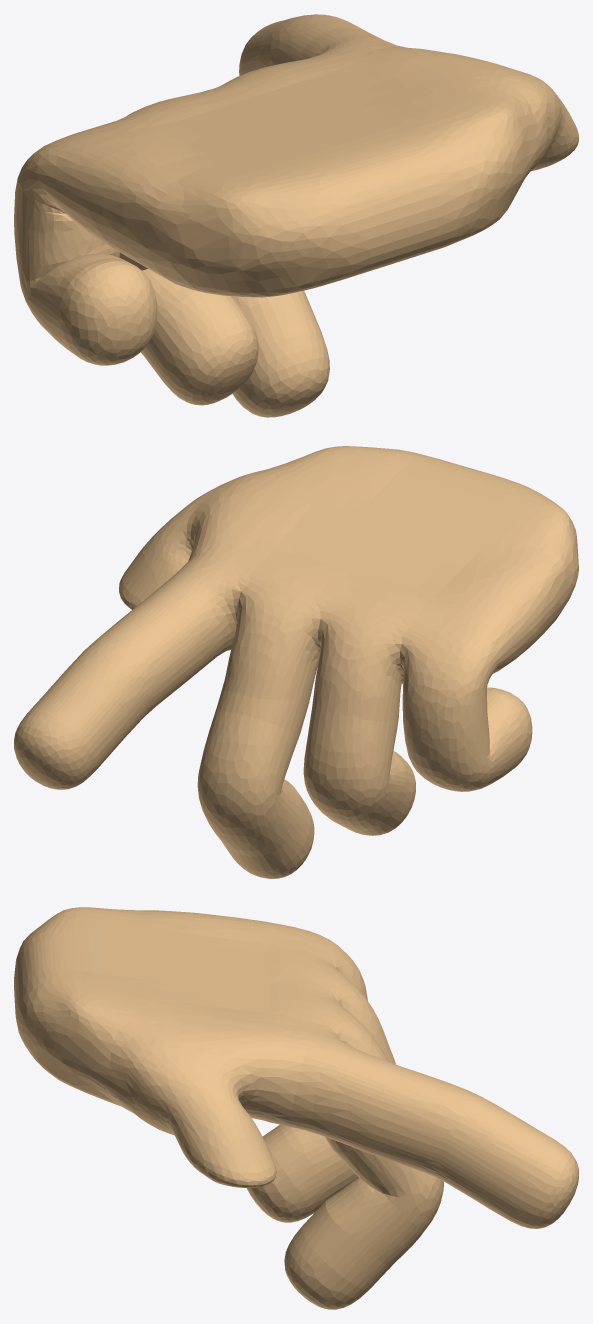
The model's file is interact.glb.
3 renders of one model, top to bottom at view 1: azimuth 30°, elevation 25°; view 2: azimuth 150°, elevation 25°; view 3: azimuth 270°, elevation 25°, orthographic. The views are drawn at different scales.
Parts seen in each view (by area): view 1: Cube; view 2: Cube; view 3: Cube.
Boxes of the visible parts, x1=… form: Cube: x1=14, y1=14, x2=578, y2=417; Cube: x1=14, y1=446, x2=578, y2=878; Cube: x1=14, y1=907, x2=578, y2=1309.
Size of the model in its own units: 2.55 by 1.94 by 2.99.
